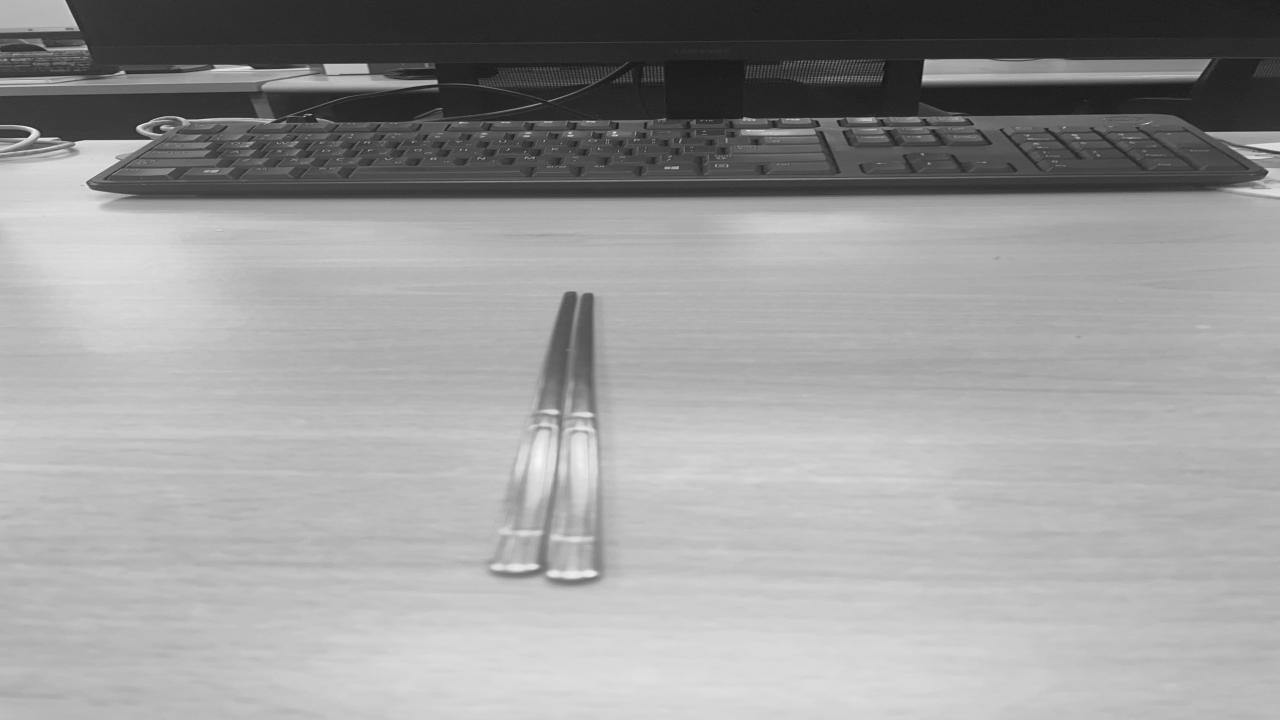chopstick: (493, 291, 601, 580)
